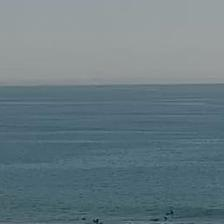surfer: (92, 218, 100, 223), (151, 218, 158, 222), (163, 215, 168, 220), (80, 217, 86, 221), (170, 210, 174, 213)
